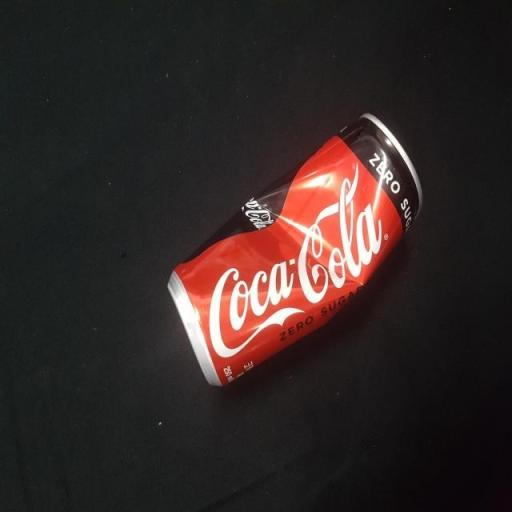metal: (158, 101, 445, 401)
